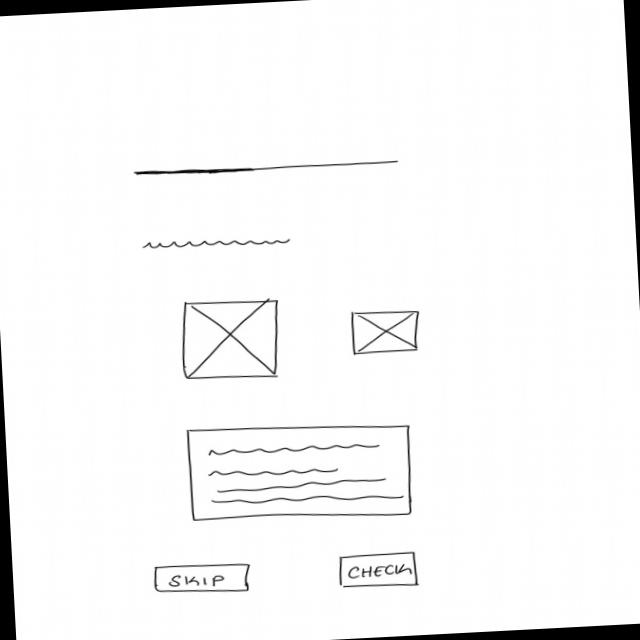button: (154, 562, 254, 599), (338, 552, 423, 592)
container: (184, 415, 419, 529)
image: (177, 297, 284, 384), (348, 309, 424, 358)
text: (207, 440, 383, 460), (144, 234, 295, 254)
textbox: (208, 460, 407, 513)
